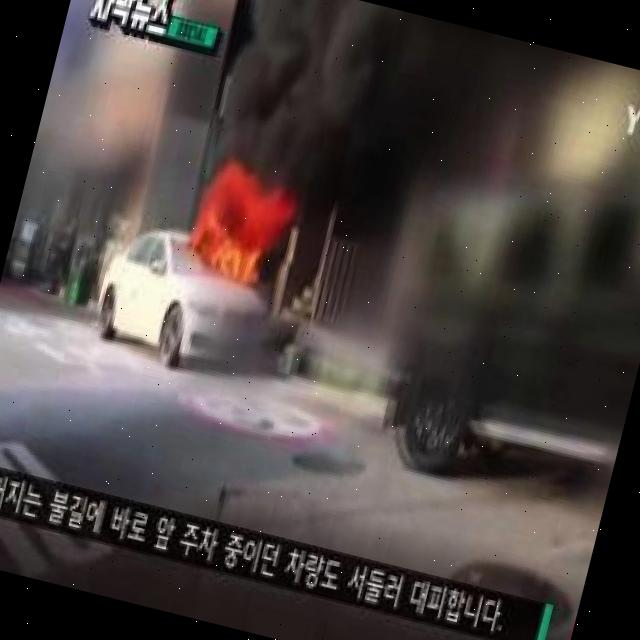fire: (185, 178, 289, 291)
